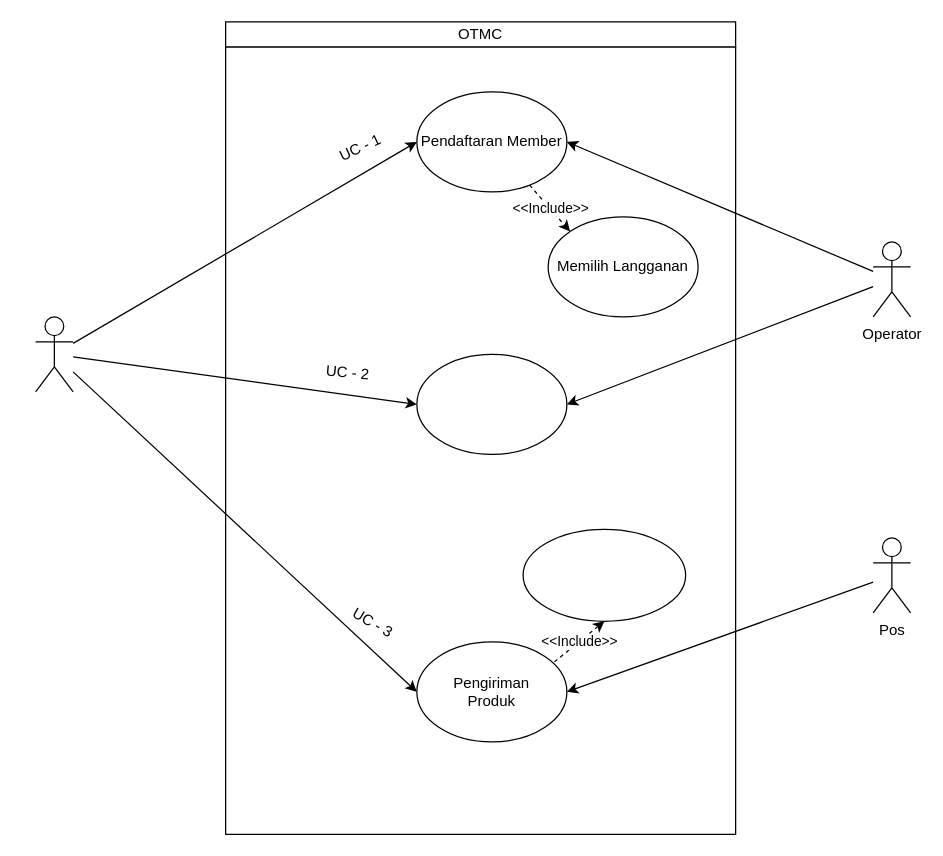
The diagram is 943 pixels wide and 856 high, and some of its shapes have lost their labels. Here are the shapes that lost their labels. From the top down, the box of each, then its label:
(34, 316, 73, 392): Customer
(416, 353, 567, 454): Pembayaran
(522, 528, 686, 621): Periksa Langganan
